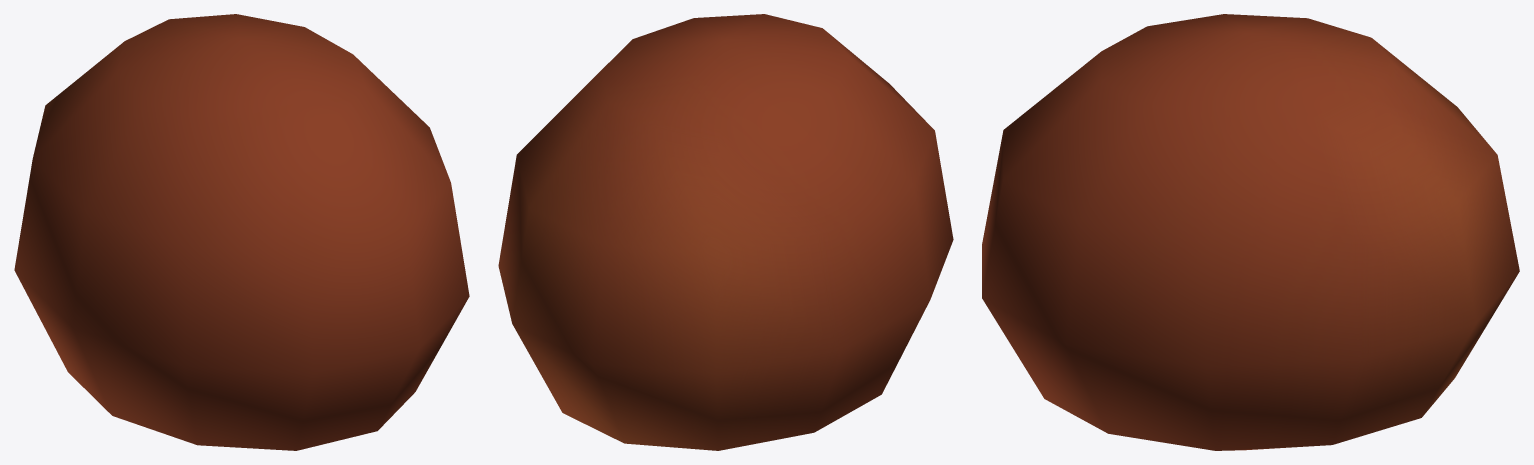
Rendered from MSH_Globo.fbx.
3 views of the same model, side by side, from view 1: azimuth 30°, elevation 25°; view 2: azimuth 150°, elevation 25°; view 3: azimuth 270°, elevation 25° (orthographic). The views are drawn at different scales.
Visible parts, largest first — view 1: GLOBO; view 2: GLOBO; view 3: GLOBO.
Part boxes in pixels (x1=…): GLOBO: x1=14, y1=14, x2=469, y2=450; GLOBO: x1=498, y1=14, x2=953, y2=450; GLOBO: x1=982, y1=14, x2=1519, y2=450.
Size of the model in its own units: 27.12 by 27.69 by 32.34.
Materials: 1 (1 with a texture image).
